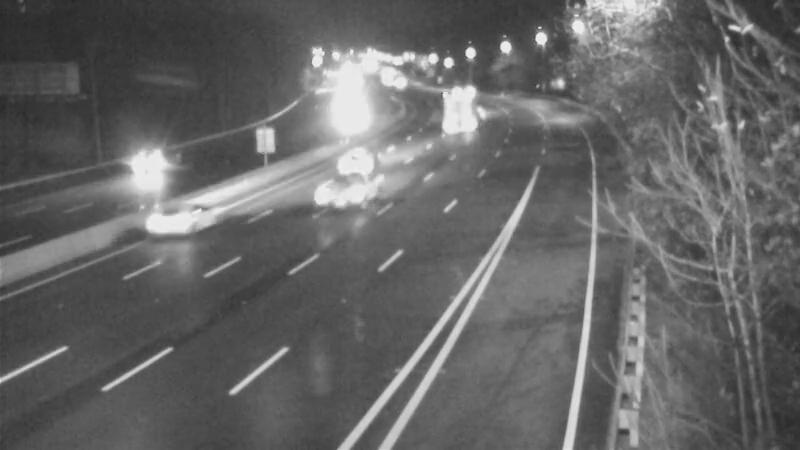vehicle: (322, 115, 402, 195), (303, 153, 383, 233), (134, 180, 214, 260), (100, 130, 180, 210), (425, 82, 475, 132)
